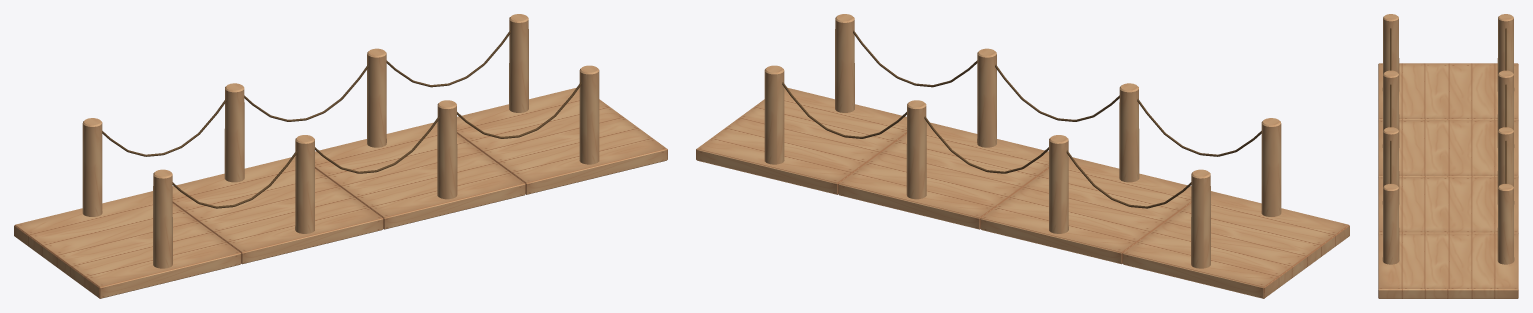
The model's file is Bridge.fbx.
The picture shows the model from 3 angles, left to right: view 1: azimuth 30°, elevation 25°; view 2: azimuth 150°, elevation 25°; view 3: azimuth 270°, elevation 25°; orthographic projection. The views are drawn at different scales.
Visible parts, largest first — view 1: Cube.001, Cylinder, Cube.005; view 2: Cube.001, Cylinder, Cube.005; view 3: Cube.001, Cylinder, Cube.005.
Part boxes in pixels (bbox=[...]): Cube.001: bbox=[14, 87, 667, 298]; Cylinder: bbox=[82, 14, 599, 268]; Cube.005: bbox=[102, 30, 581, 208]; Cube.001: bbox=[696, 87, 1349, 298]; Cylinder: bbox=[764, 14, 1281, 268]; Cube.005: bbox=[782, 30, 1261, 208]; Cube.001: bbox=[1378, 63, 1518, 298]; Cylinder: bbox=[1382, 14, 1514, 264]; Cube.005: bbox=[1390, 28, 1506, 183].
Size of the model in its own units: 541 by 93.99 by 142.
